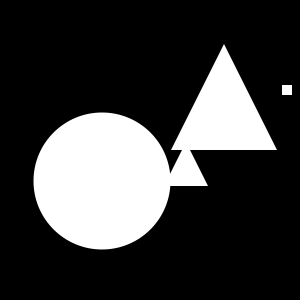circle: (282, 85, 292, 95)
rectangle: (34, 113, 170, 250)
triangle: (171, 44, 277, 150), (164, 142, 208, 186)
